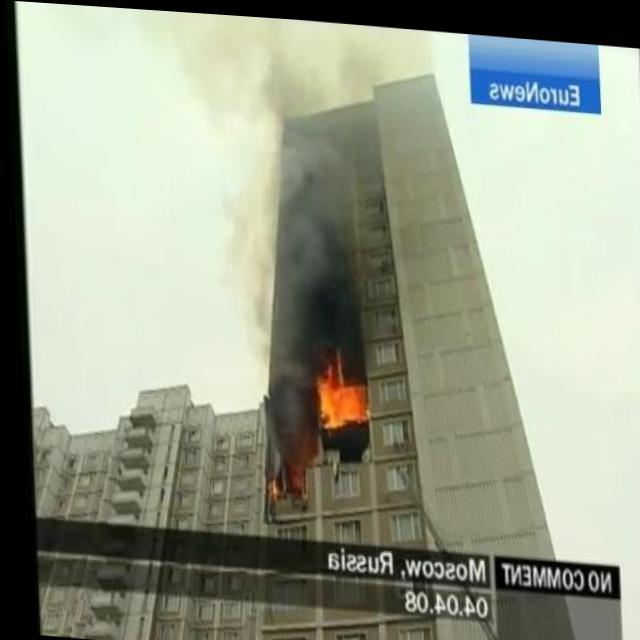fire: (306, 346, 366, 428)
